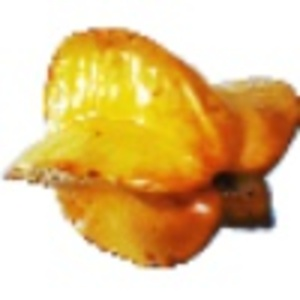carambola: (4, 25, 300, 272)
